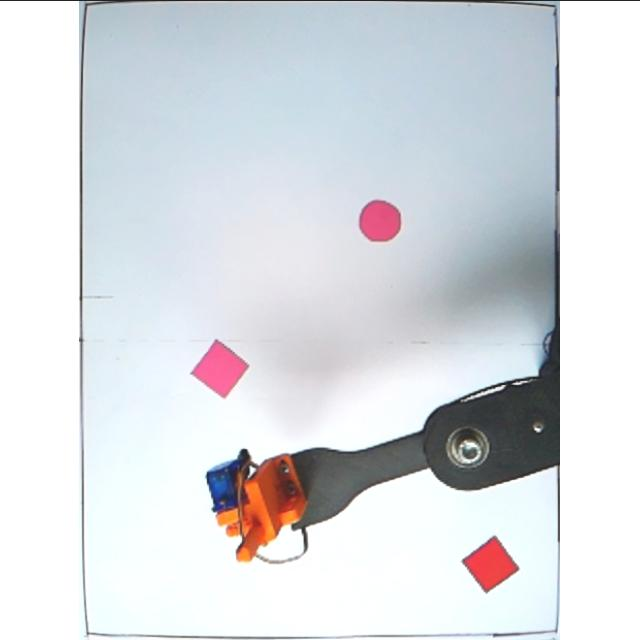pinkCircle: (360, 196, 404, 244)
pinkSquare: (190, 338, 252, 398)
redSquare: (462, 534, 522, 592)
